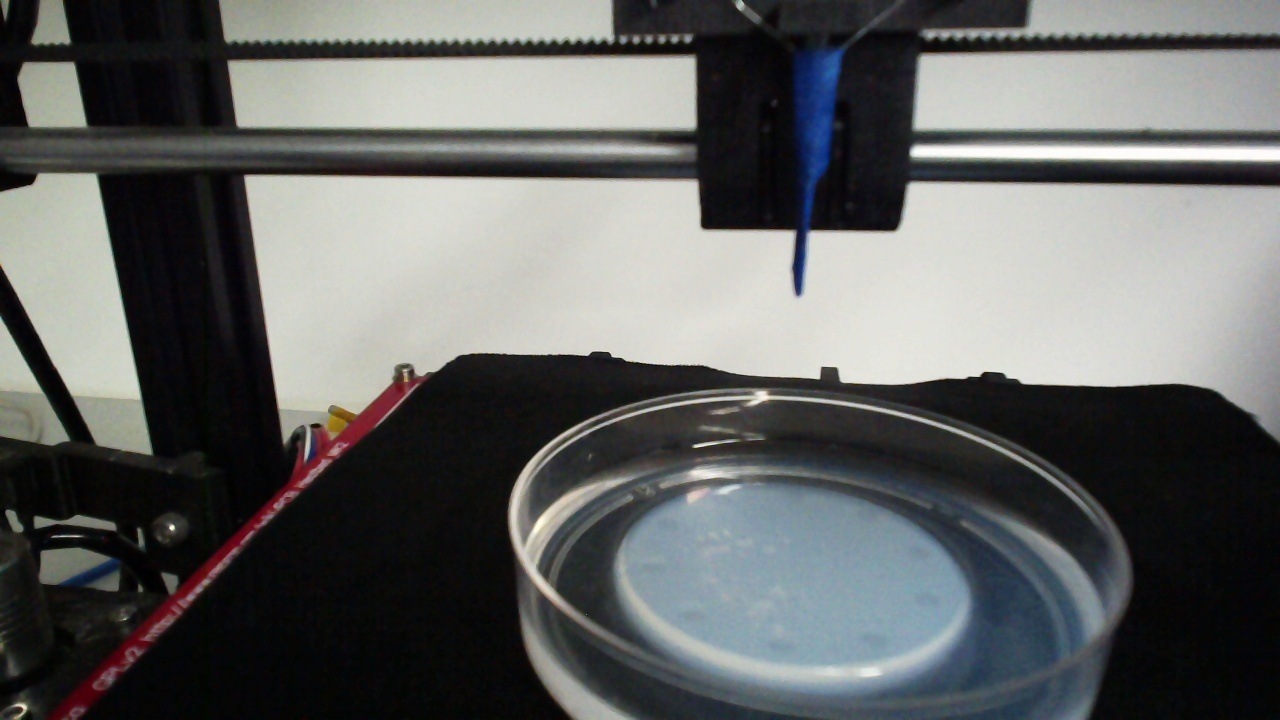groove: (677, 604, 711, 626), (858, 630, 890, 652), (637, 557, 669, 579), (767, 634, 798, 656), (911, 589, 944, 608), (654, 514, 683, 534), (903, 543, 934, 561), (852, 504, 881, 523), (710, 493, 733, 508)
needle: (791, 52, 841, 298)
